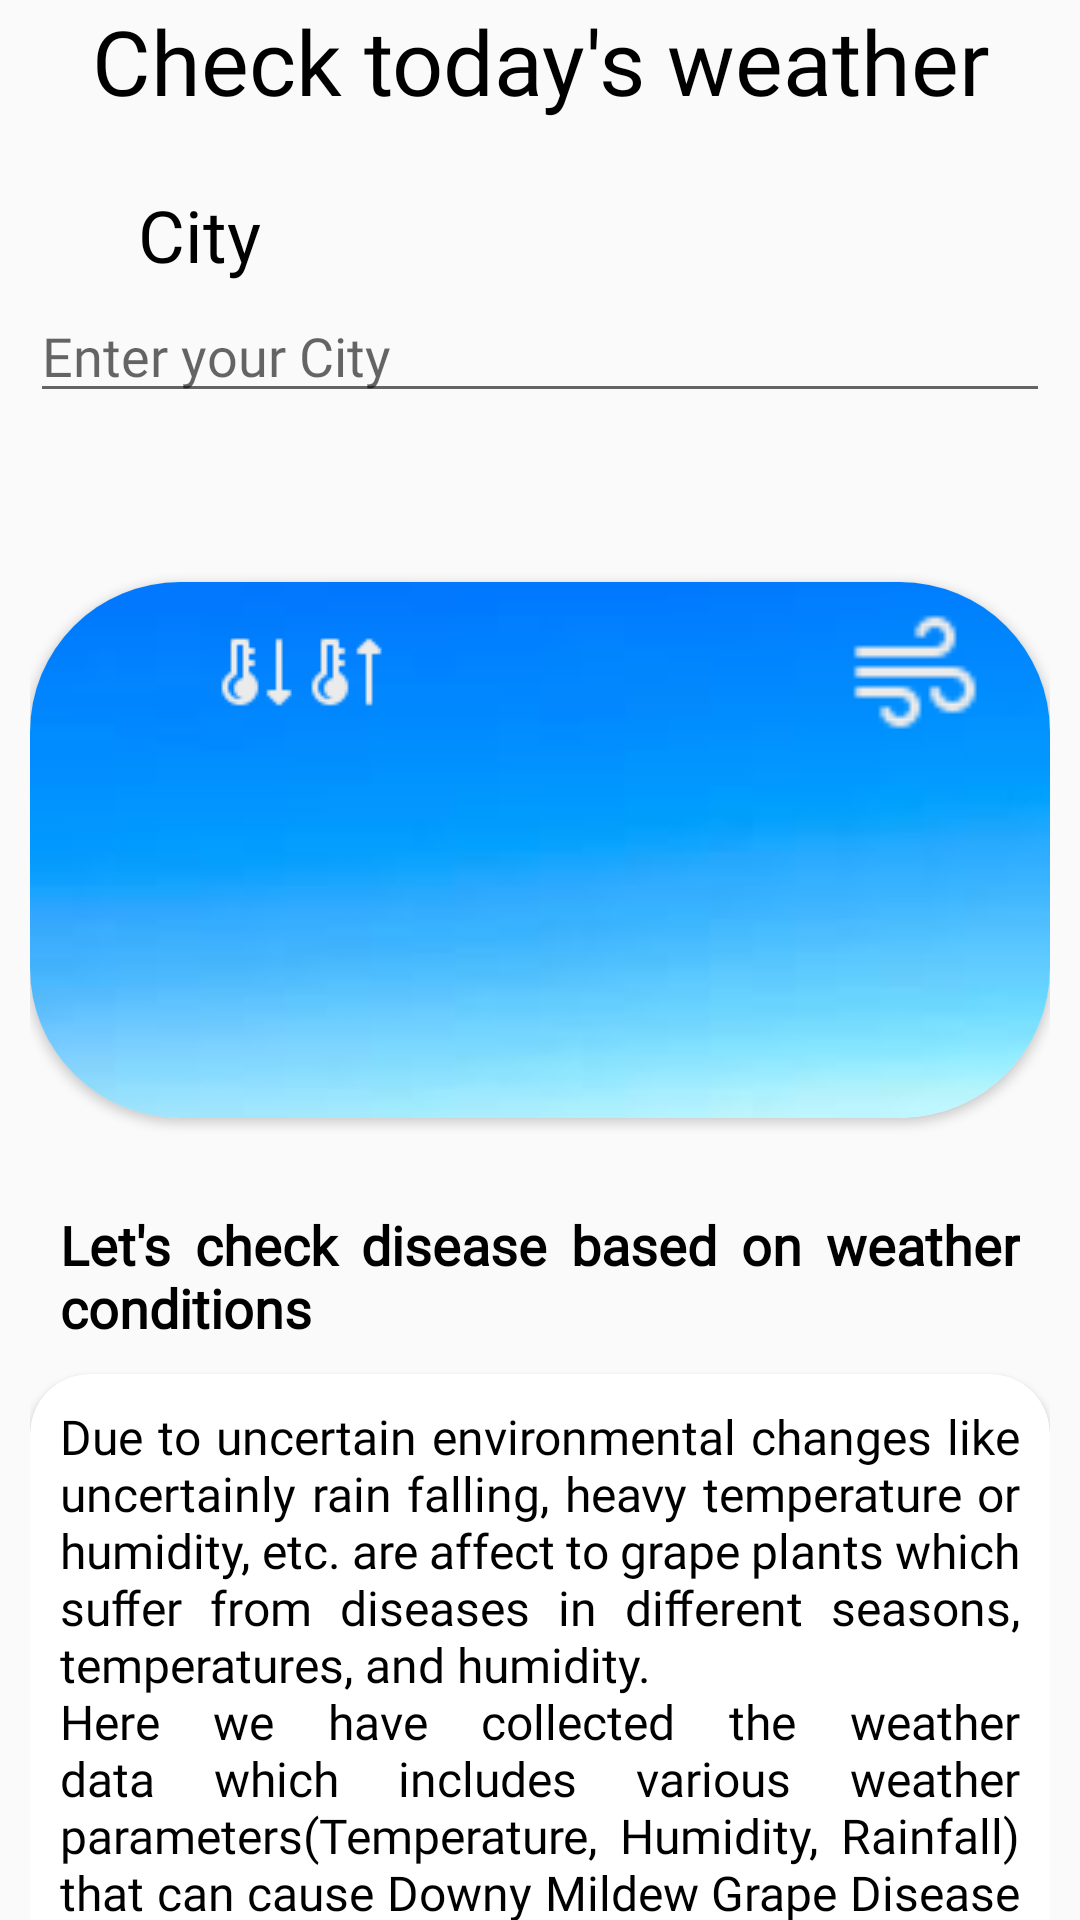

Screen size 1080 × 1920. Icon name, then its center in pixels as (x,y):
temup: (346,672)
wind: (915,655)
